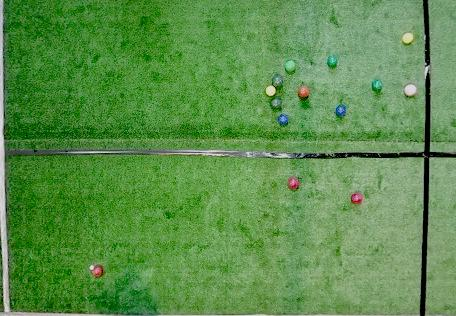blue: (335, 105, 346, 116), (278, 114, 289, 125)
green: (272, 75, 283, 87), (285, 60, 296, 72), (327, 56, 338, 67), (372, 80, 383, 91), (271, 98, 281, 109)
red: (404, 84, 417, 96), (298, 86, 310, 98), (351, 193, 363, 205), (288, 177, 299, 189), (91, 266, 103, 277)
vline: (419, 1, 456, 315), (0, 1, 14, 315)
white: (89, 264, 94, 270)
yellow: (402, 33, 414, 44), (266, 85, 276, 96)
